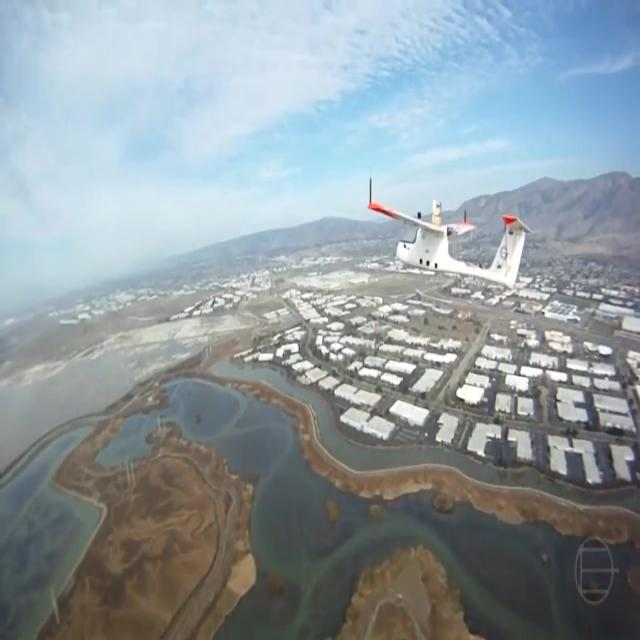iha: (368, 205, 534, 256)
